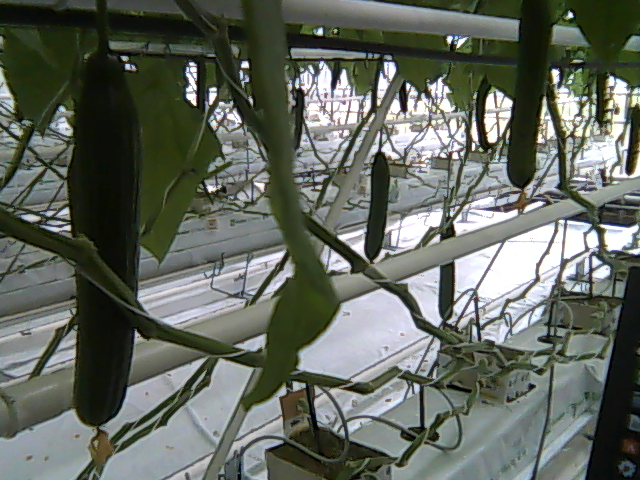concombre: (65, 41, 147, 480)
